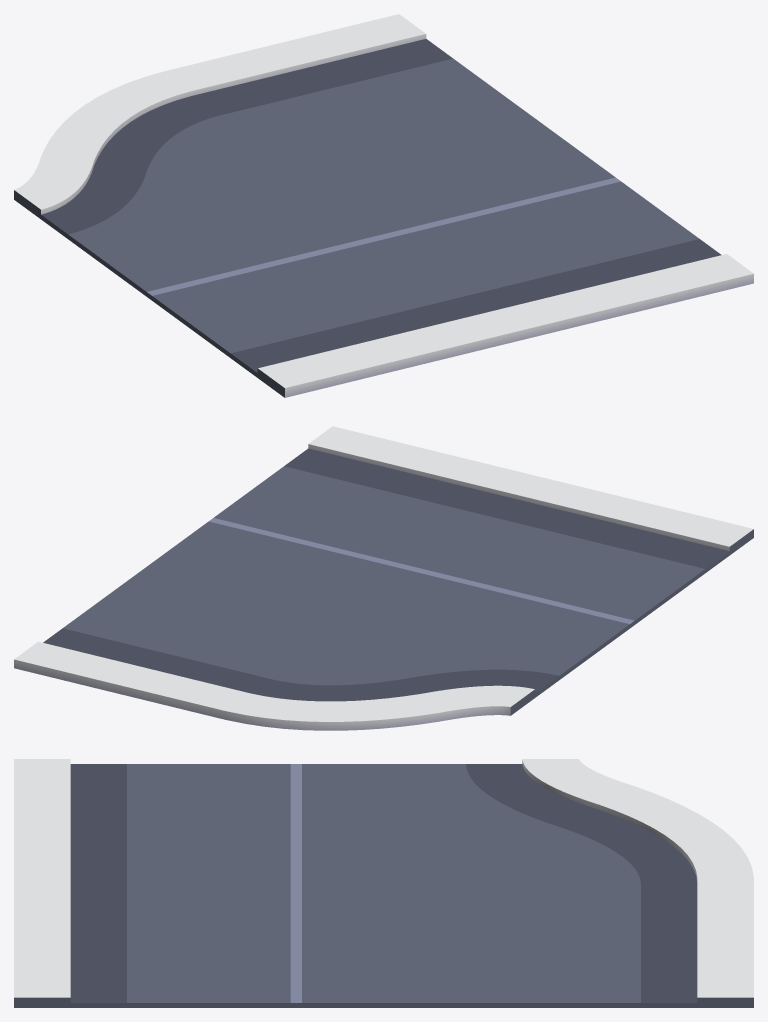
Rendered from kenney-city-roads-road-side-exit.glb.
3 views of the same model, one above another, from view 1: azimuth 30°, elevation 25°; view 2: azimuth 150°, elevation 25°; view 3: azimuth 270°, elevation 25° (orthographic). The views are drawn at different scales.
Visible parts, largest first — view 1: road-side-exit; view 2: road-side-exit; view 3: road-side-exit.
Part boxes in pixels (left/top/right/bottom): road-side-exit: left=14, top=14, right=753, bottom=397; road-side-exit: left=14, top=426, right=753, bottom=730; road-side-exit: left=14, top=759, right=753, bottom=1007.
Bounding box in the file's own units: 1 × 0.02 × 1.31.
Materials: 1 (1 with a texture image).
